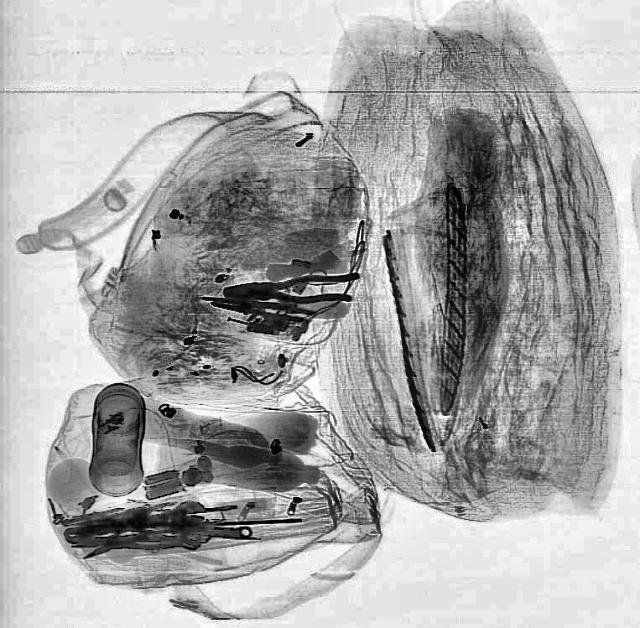Pliers: (222, 270, 360, 306)
Wrench: (65, 497, 208, 548)
